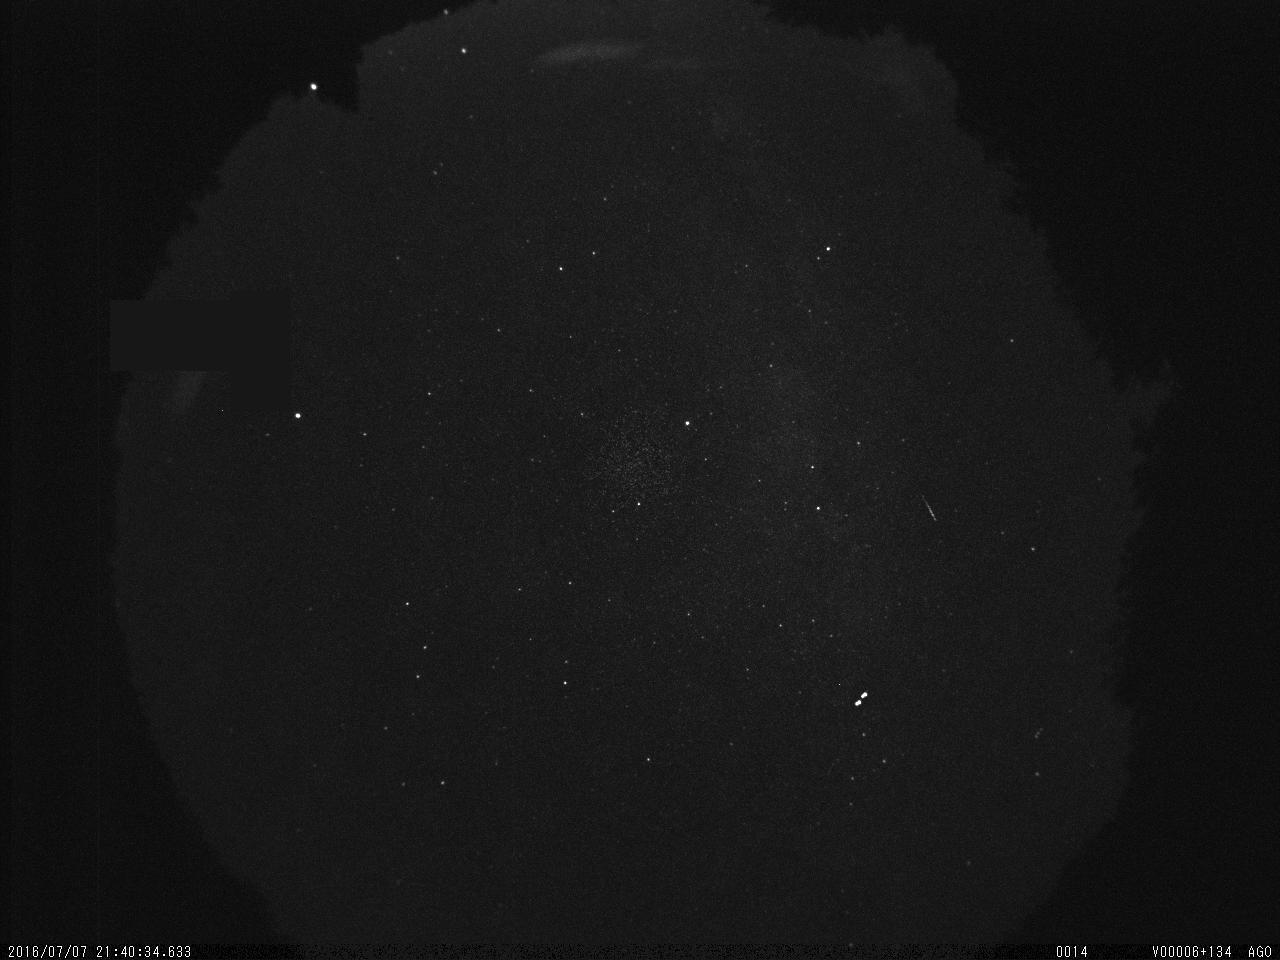meteor: (900, 482, 959, 536)
